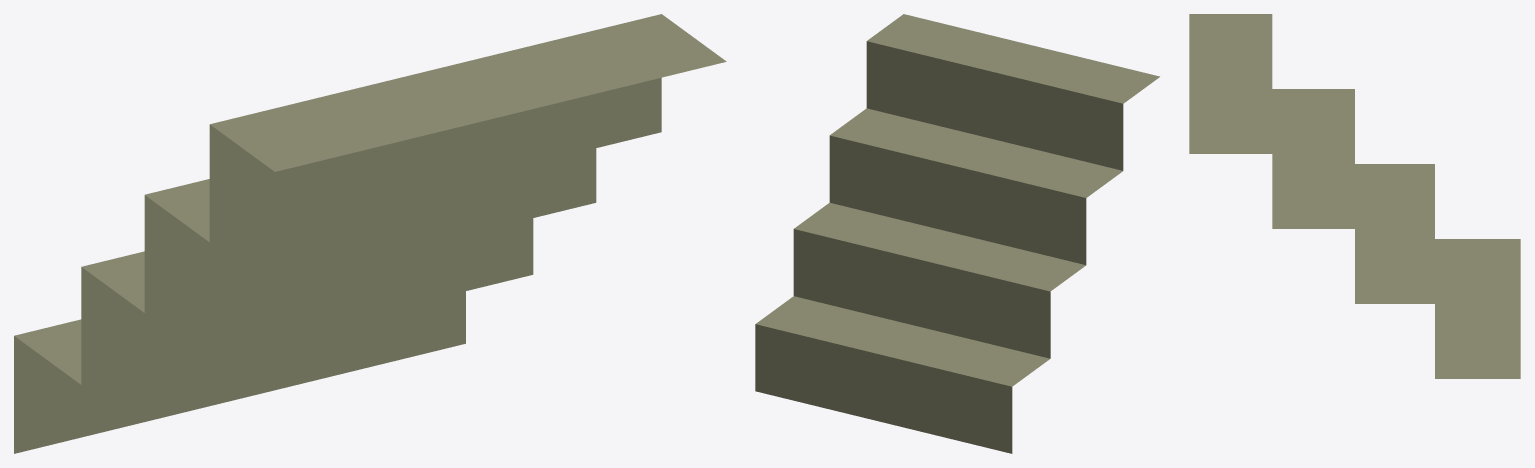
Rendered from Stair.fbx.
3 views of the same model, side by side, from view 1: azimuth 30°, elevation 25°; view 2: azimuth 150°, elevation 25°; view 3: azimuth 270°, elevation 25° (orthographic). The views are drawn at different scales.
Parts seen in each view (by area): view 1: Stair; view 2: Stair; view 3: Stair.
Boxes of the visible parts, bbox=[...] form: Stair: bbox=[14, 14, 726, 453]; Stair: bbox=[755, 14, 1159, 453]; Stair: bbox=[1189, 14, 1520, 378].
Size of the model in its own units: 1 by 1 by 1.
